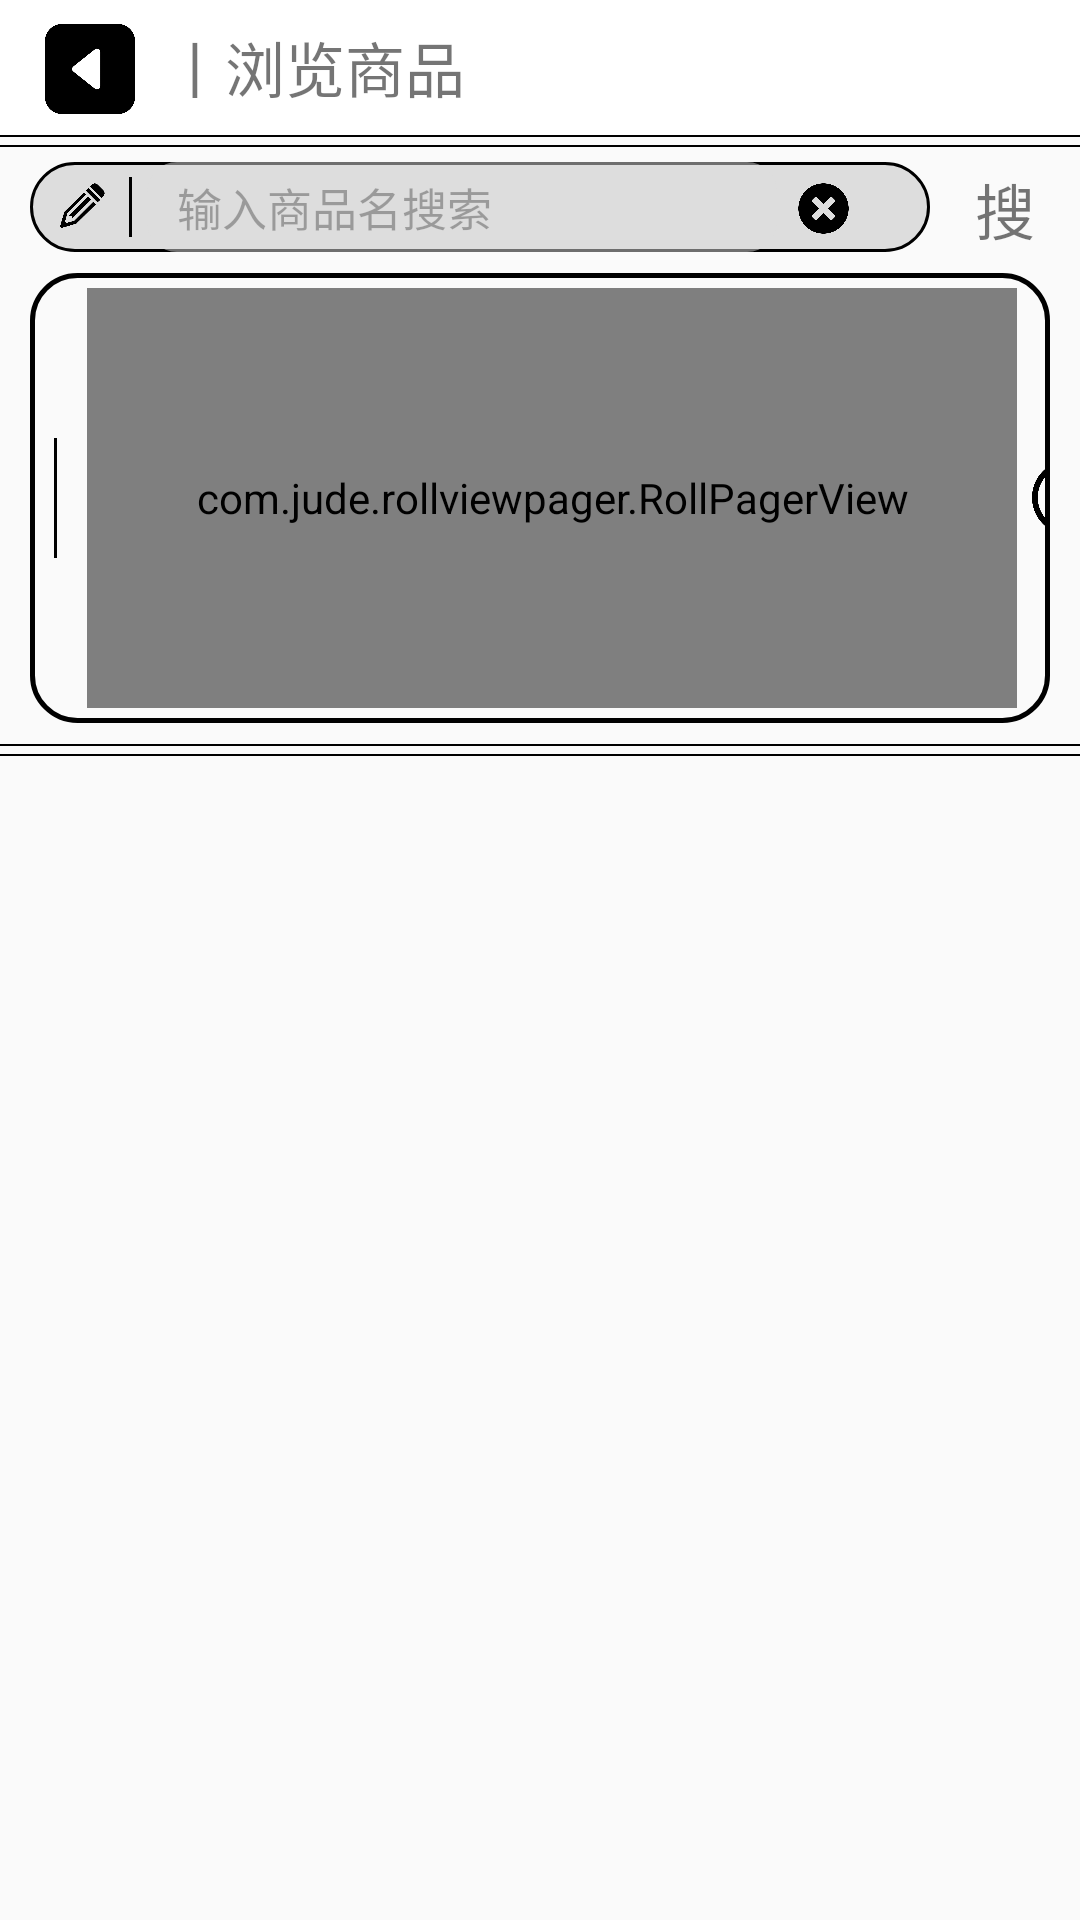

Point at icon controls on the screen. Image size 1080 × 1920, points as point (x, y).
back: point (90, 69)
cancel: point (823, 208)
edit: point (82, 205)
